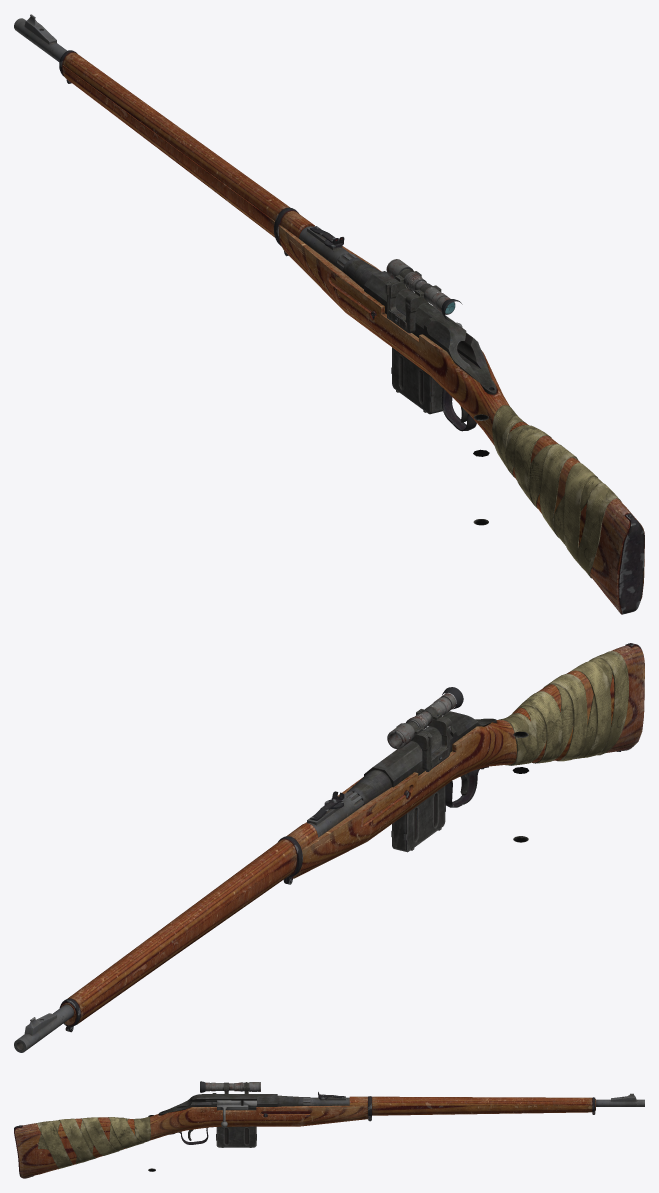
File: sniper_ph.glb
3 views of the same model, one above another, from view 1: azimuth 30°, elevation 25°; view 2: azimuth 150°, elevation 25°; view 3: azimuth 270°, elevation 25° (orthographic). The views are drawn at different scales.
Visible parts, largest first — view 1: body, wrap, scope; view 2: body, wrap, scope; view 3: body, wrap, scope, bolt.
Part boxes in pixels (box(x1,y1,x2,y2)): body: box(14, 14, 644, 614); wrap: box(492, 405, 621, 578); scope: box(385, 259, 489, 525); body: box(14, 643, 644, 1052); wrap: box(498, 651, 628, 765); scope: box(387, 693, 528, 842); body: box(14, 1092, 644, 1178); wrap: box(36, 1116, 150, 1169); scope: box(148, 1082, 260, 1171); bolt: box(205, 1100, 256, 1127).
Bounding box in the file's own units: 0.0603 × 0.1751 × 1.05.
7 materials, 3 textured.
